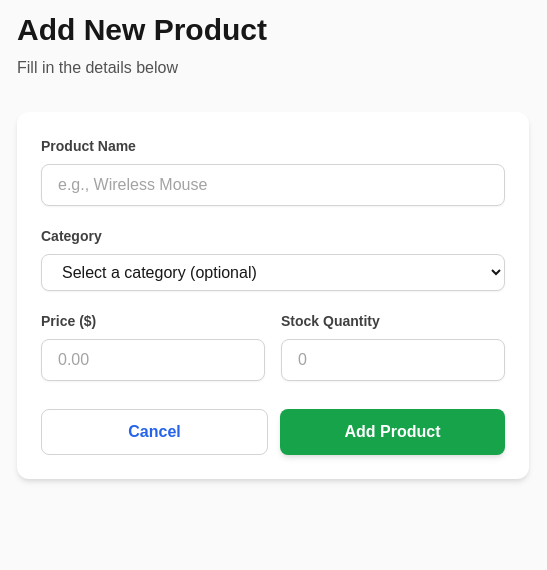
Test: AddProduct Page › should show error when fields are empty
The image size is (547, 570).
Click the button "Add Product" at (392, 432), box [280,409,505,455]
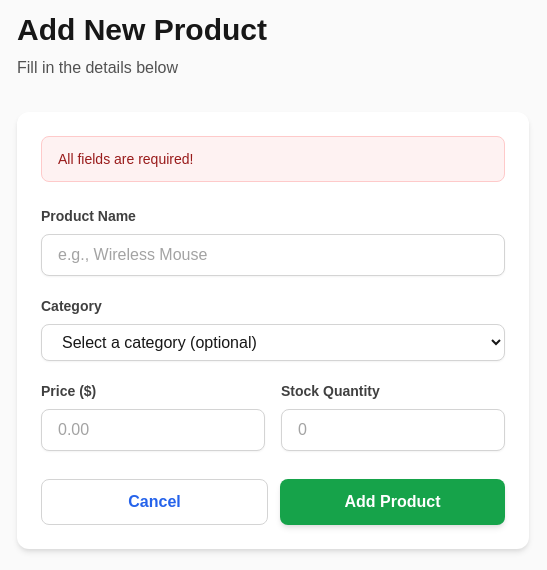
Check: the text "All fields are required!" is shown, box [41,136,505,182]
